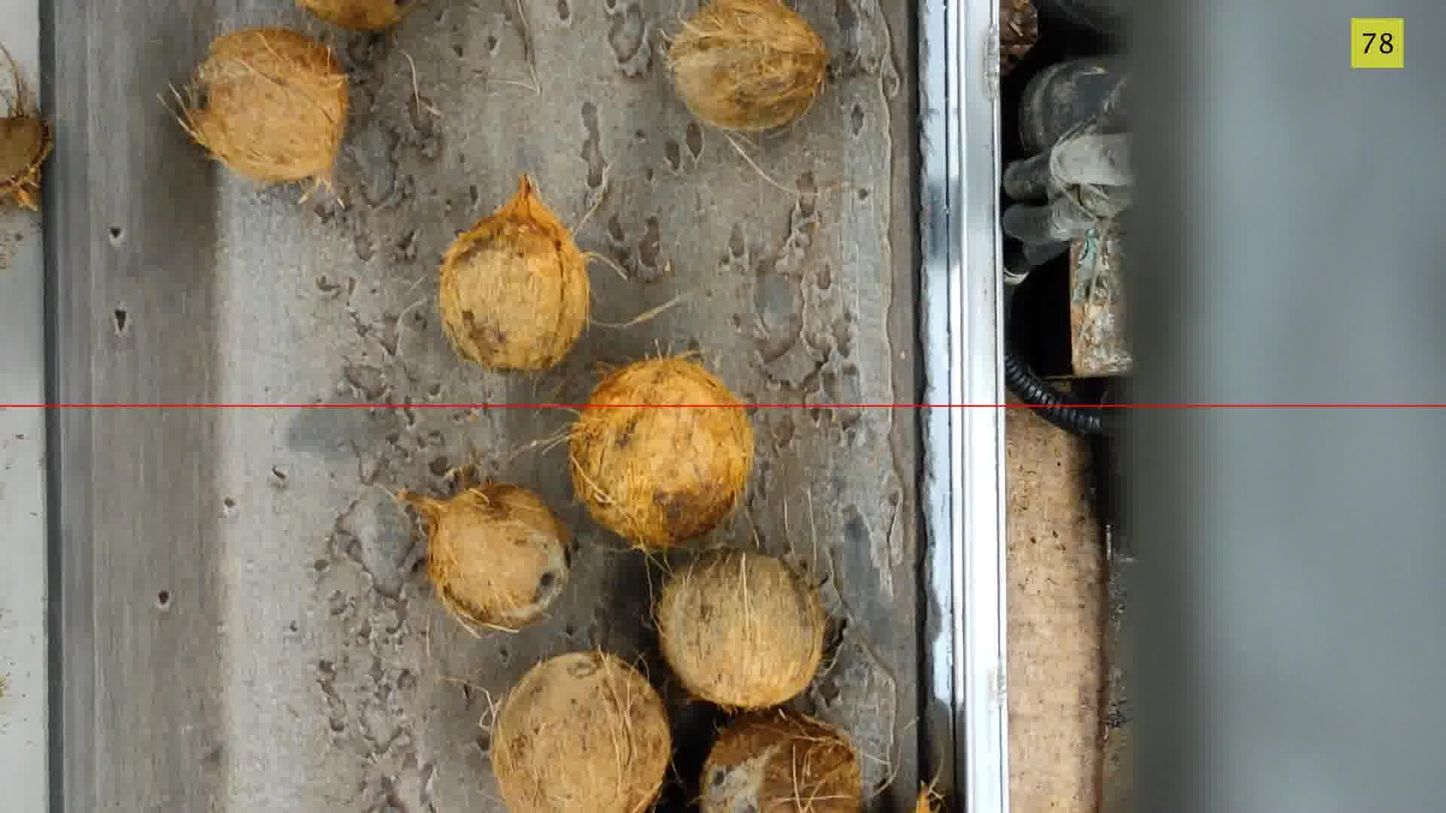Coconut: (569, 356, 754, 551), (438, 175, 590, 370), (492, 651, 671, 812), (392, 482, 572, 637), (654, 549, 826, 710), (178, 26, 349, 185), (667, 0, 828, 131), (700, 710, 863, 812), (0, 47, 53, 209), (297, 0, 416, 32), (914, 783, 942, 812)
